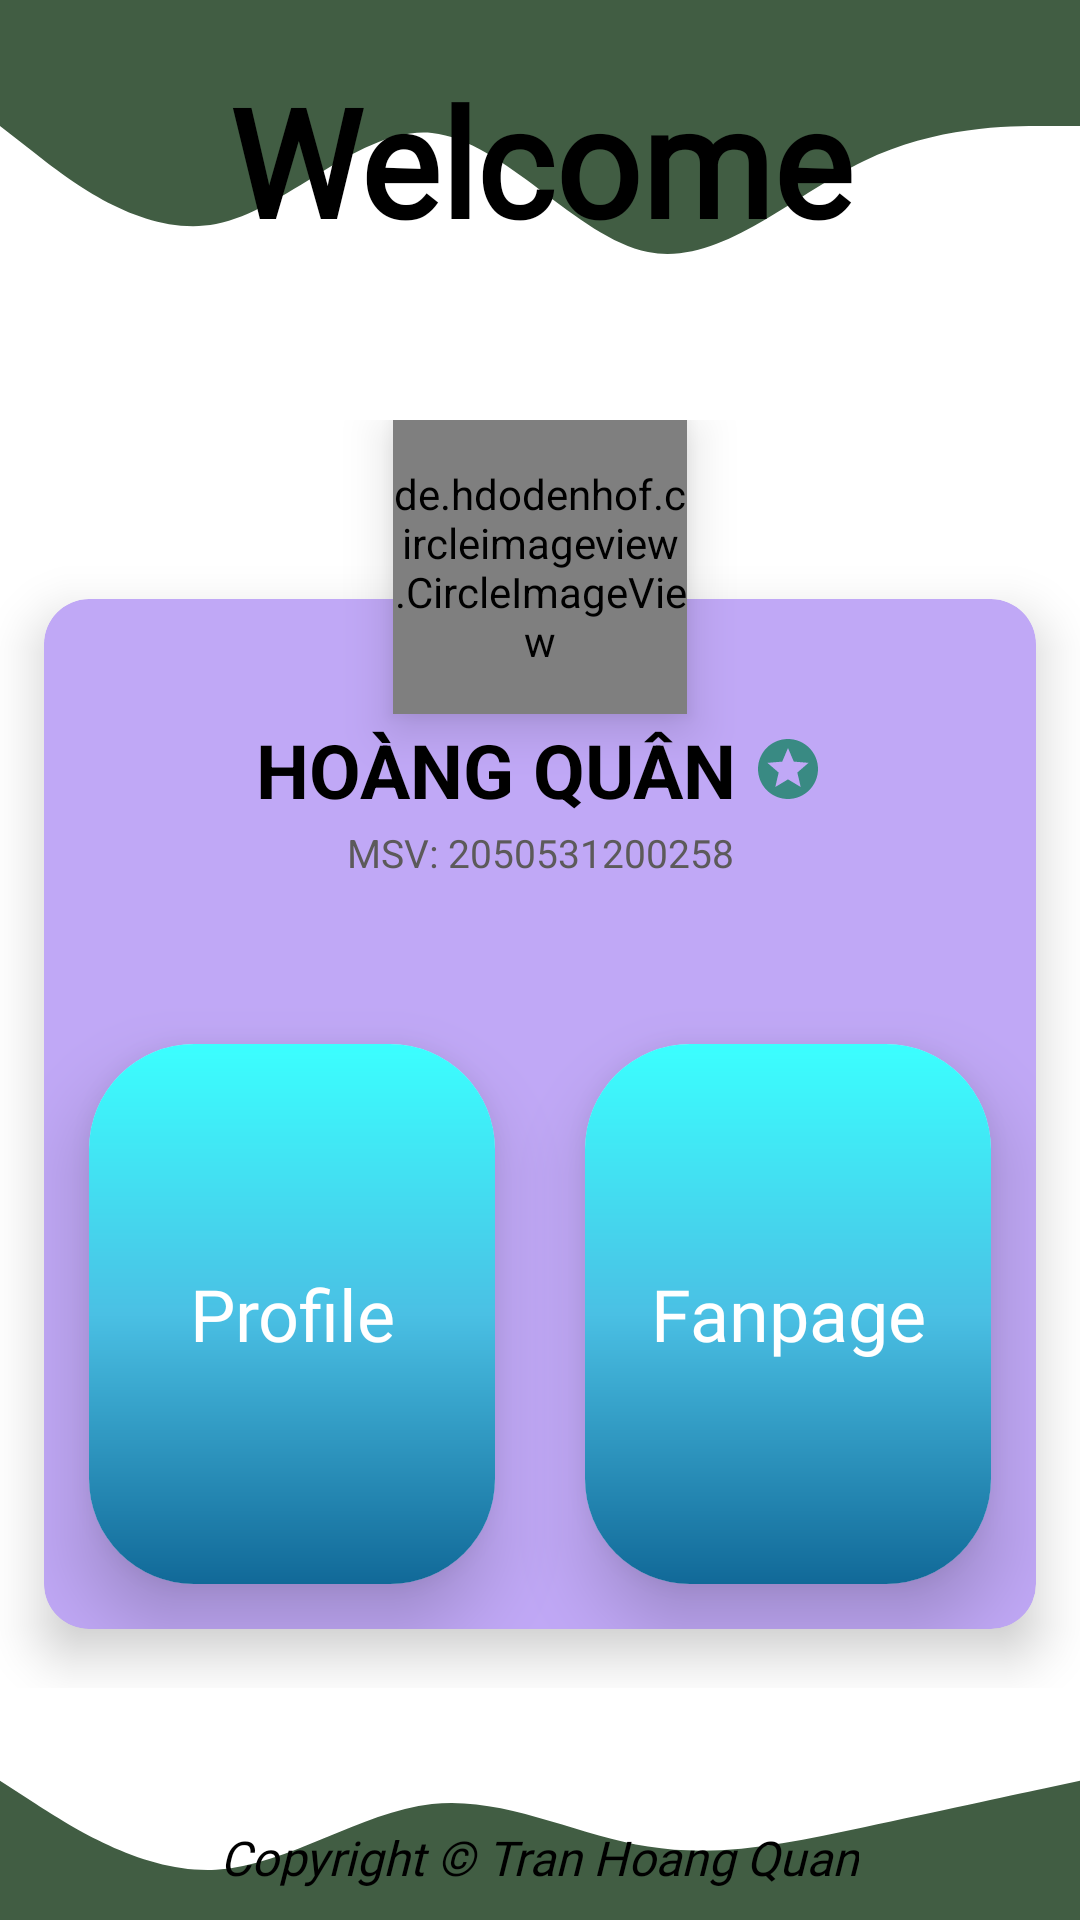

Screen size 1080x1920. Icon name, then its center in pixels as (x,y):
stars: (788,769)
